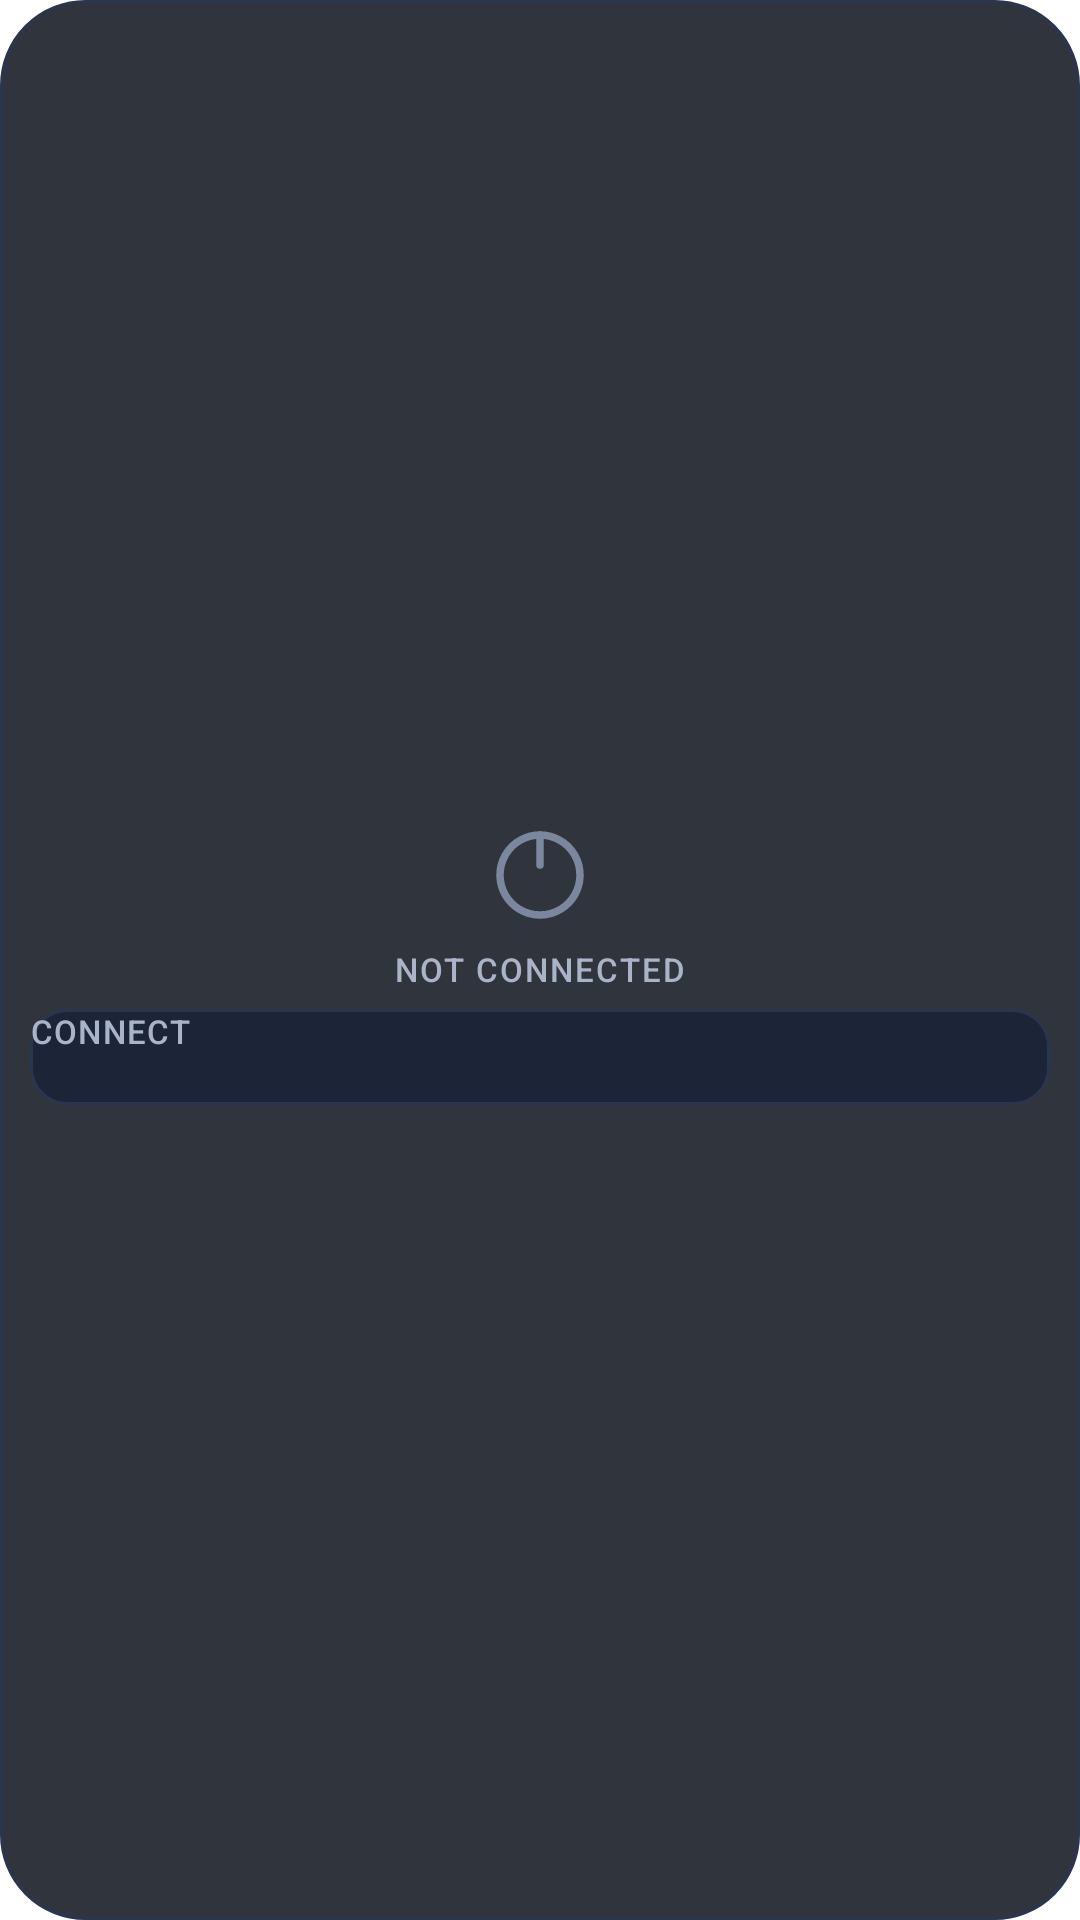

Where to tap for icons on this 1080*1920 app screen, as point (x, y):
Tunnel status, tap to open app: point (540, 875)
